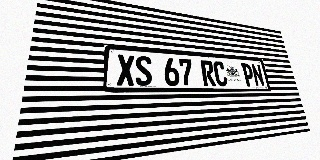6: (163, 57, 180, 86)
7: (178, 58, 194, 86)
C: (212, 61, 228, 86)
N: (251, 64, 265, 86)
P: (241, 63, 255, 86)
R: (200, 60, 216, 86)
S: (135, 55, 153, 86)
X: (117, 54, 135, 86)
